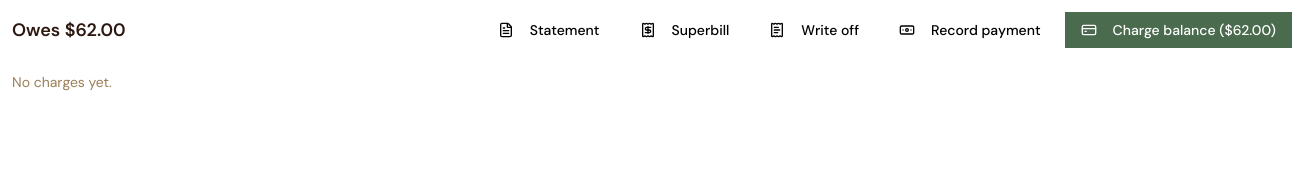
Test: BalanceTab › charging the balance › charges without sending an amount, so the server reads the current one
Click the button "Charge balance ($62.00)" at (1178, 30), box left=1065, top=12, right=1292, bottom=48
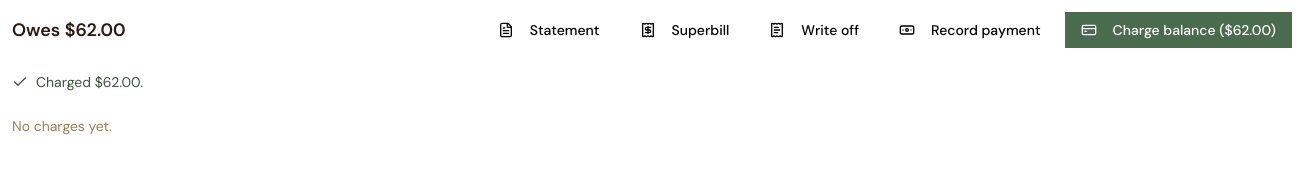
Check: the text "Charged $62.00." is shown, box left=12, top=73, right=143, bottom=91
